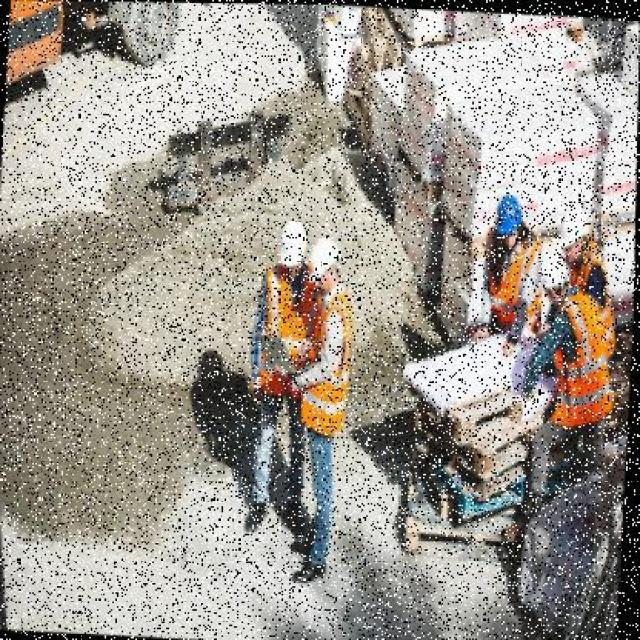helmet: (557, 197, 599, 262), (488, 192, 529, 250), (272, 220, 307, 274), (308, 236, 342, 287)
vest: (552, 285, 618, 432), (305, 286, 359, 442), (263, 266, 317, 356), (489, 257, 531, 333)
